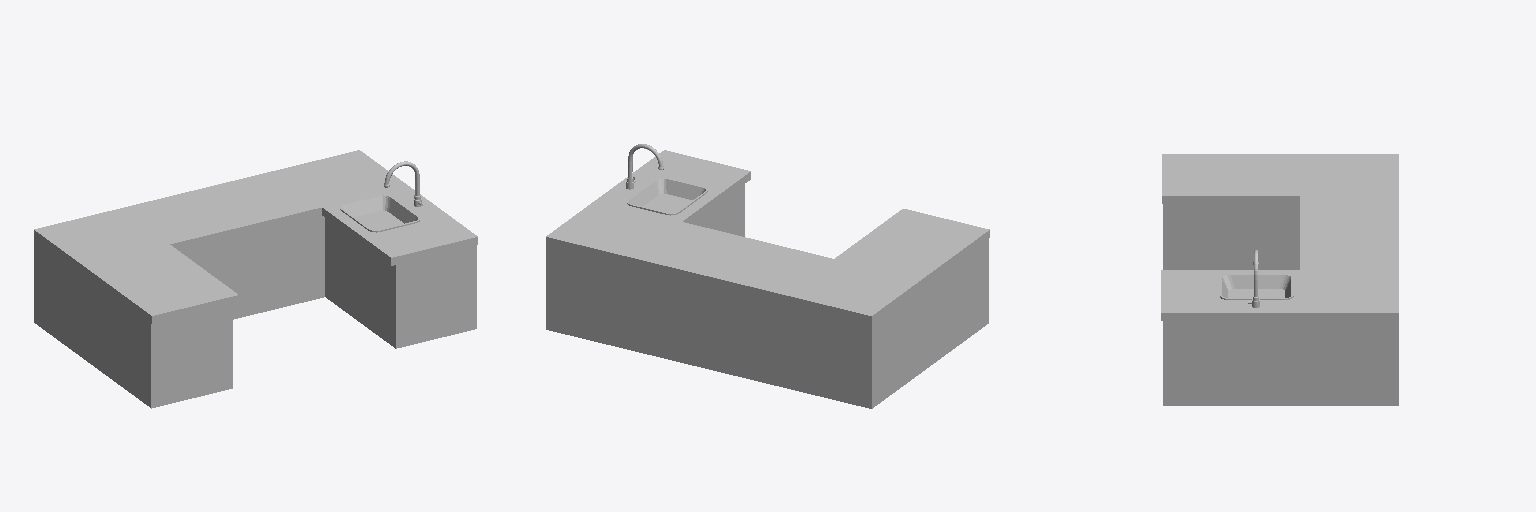
Rendered from kitchen.obj.
The picture shows the model from 3 angles: view 1: azimuth 30°, elevation 25°; view 2: azimuth 150°, elevation 25°; view 3: azimuth 270°, elevation 25°; orthographic projection.
Parts seen in each view (by area): view 1: Cube_Cube.005, Cube.001_Cube.006, Plane; view 2: Cube_Cube.005, Cube.001_Cube.006, Plane; view 3: Cube_Cube.005, Cube.001_Cube.006, Plane.
Part boxes in pixels (left/top/right/bottom): Cube_Cube.005: left=34, top=216, right=476, bottom=408; Cube.001_Cube.006: left=34, top=150, right=477, bottom=323; Plane: left=340, top=195, right=419, bottom=232; Cube_Cube.005: left=546, top=184, right=988, bottom=408; Cube.001_Cube.006: left=546, top=150, right=989, bottom=323; Plane: left=627, top=178, right=707, bottom=215; Cube_Cube.005: left=1163, top=204, right=1398, bottom=405; Cube.001_Cube.006: left=1161, top=154, right=1398, bottom=320; Plane: left=1220, top=274, right=1293, bottom=299.
Bounding box in the file's own units: 4 × 1.64 × 2.52.